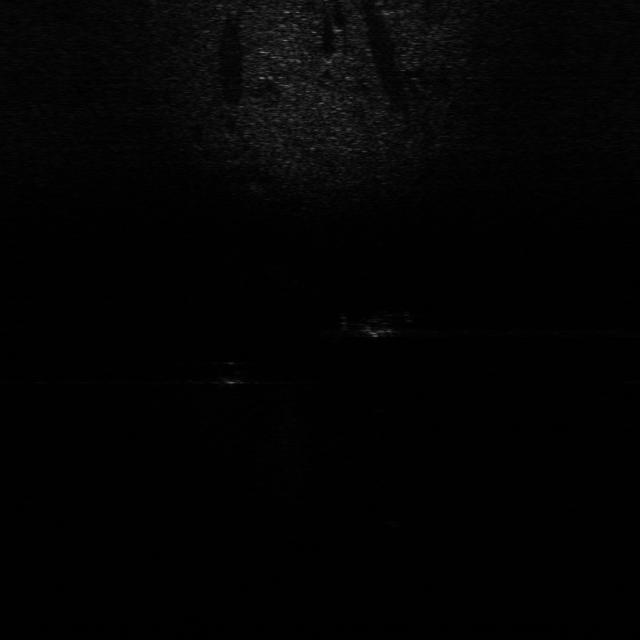ball: (216, 356, 250, 386)
human body: (329, 304, 423, 342)
